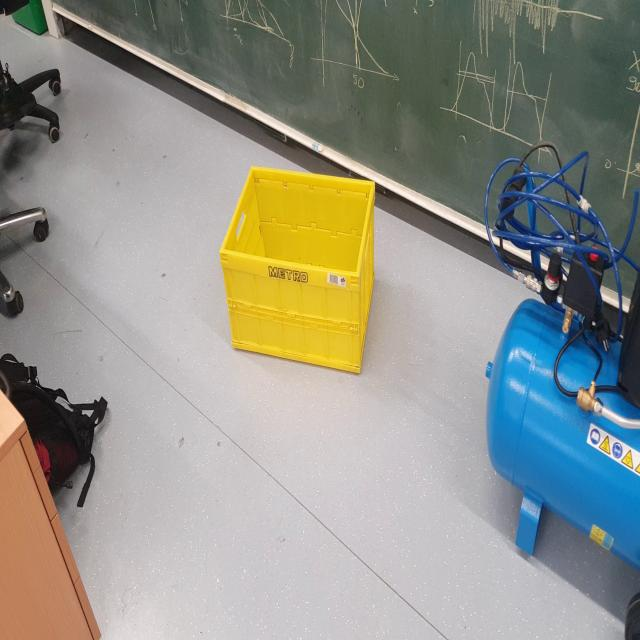box: (203, 142, 394, 402)
